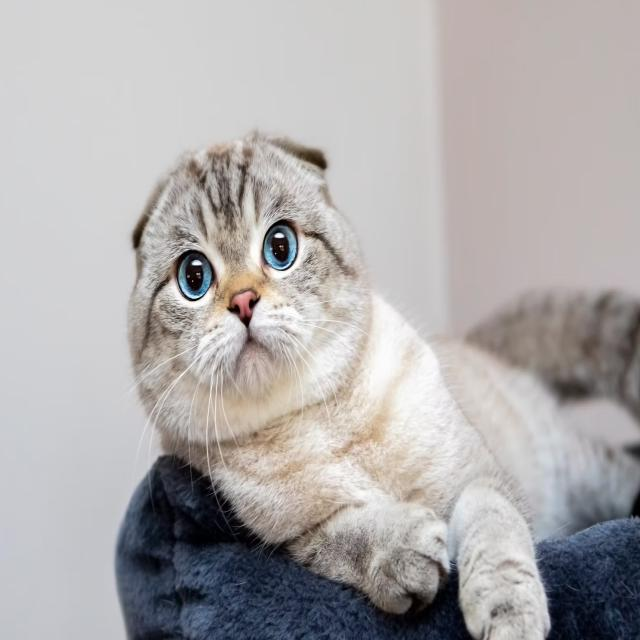Scottish Fold: (125, 125, 640, 640)
